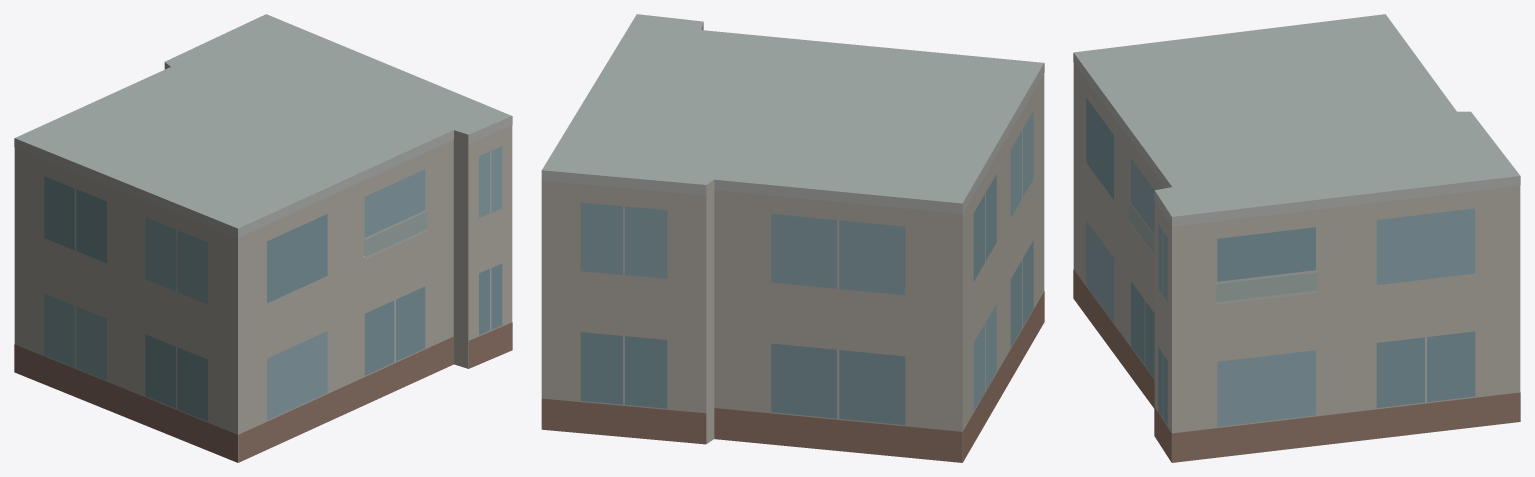
The model's file is survey-upis-32715510.glb.
The picture shows the model from 3 angles, left to right: view 1: azimuth 30°, elevation 25°; view 2: azimuth 150°, elevation 25°; view 3: azimuth 270°, elevation 25°; orthographic projection. The views are drawn at different scales.
Visible parts, largest first — view 1: survey-upis-32715510.tmp; view 2: survey-upis-32715510.tmp; view 3: survey-upis-32715510.tmp.
Boxes of the visible parts, bbox=[...] form: survey-upis-32715510.tmp: bbox=[14, 14, 512, 462]; survey-upis-32715510.tmp: bbox=[541, 14, 1044, 462]; survey-upis-32715510.tmp: bbox=[1073, 14, 1520, 462].
Size of the model in its own units: 10.8 by 6.1 by 10.06.
